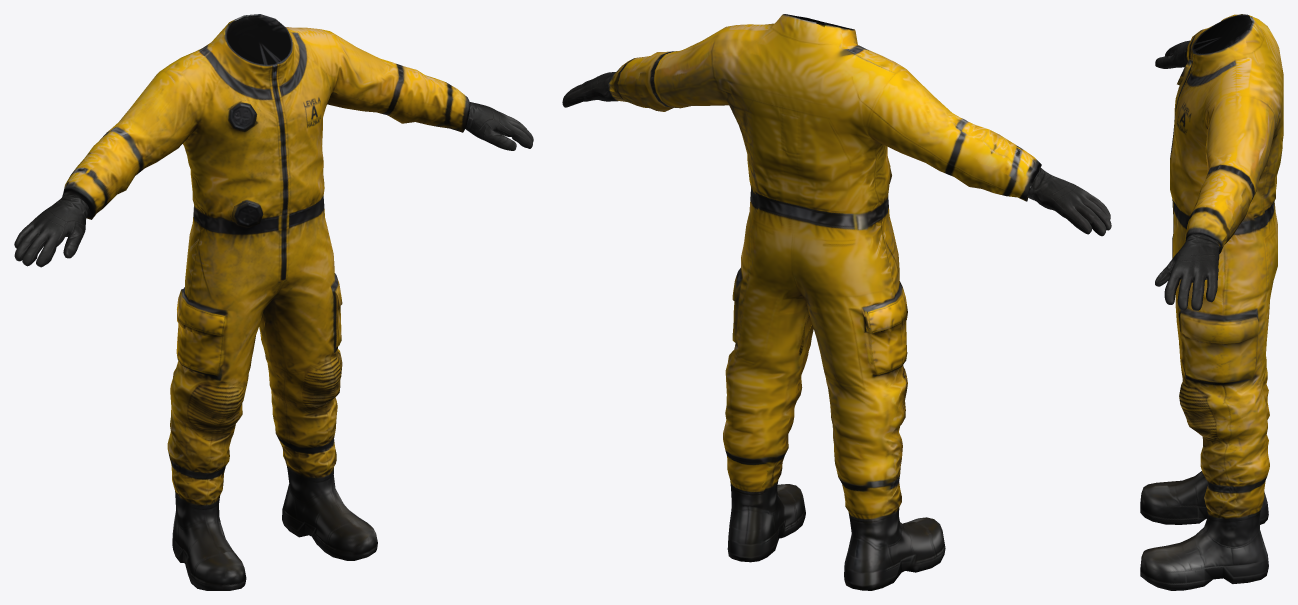
The model's file is BODY.fbx.
3 views of the same model, side by side, from view 1: azimuth 30°, elevation 25°; view 2: azimuth 150°, elevation 25°; view 3: azimuth 270°, elevation 25° (orthographic). The views are drawn at different scales.
Visible parts, largest first — view 1: part_00000001.002; view 2: part_00000001.002; view 3: part_00000001.002.
Part boxes in pixels (left/top/right/bottom): part_00000001.002: left=14, top=14, right=533, bottom=590; part_00000001.002: left=562, top=14, right=1111, bottom=590; part_00000001.002: left=1140, top=14, right=1283, bottom=590.
Size of the model in its own units: 168 by 165 by 40.55.
Materials: 2 (2 with a texture image).
